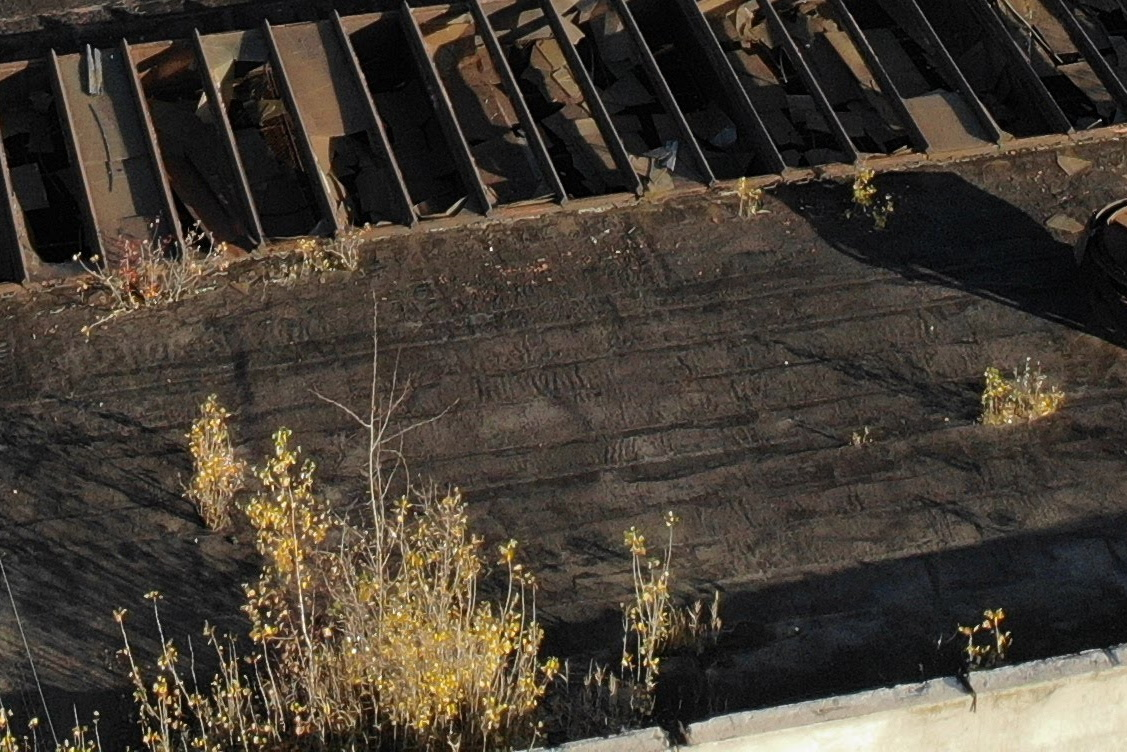tree: (306, 337, 569, 744), (236, 424, 374, 737), (603, 510, 694, 699), (108, 212, 237, 324), (154, 391, 252, 537), (964, 352, 1071, 434)
